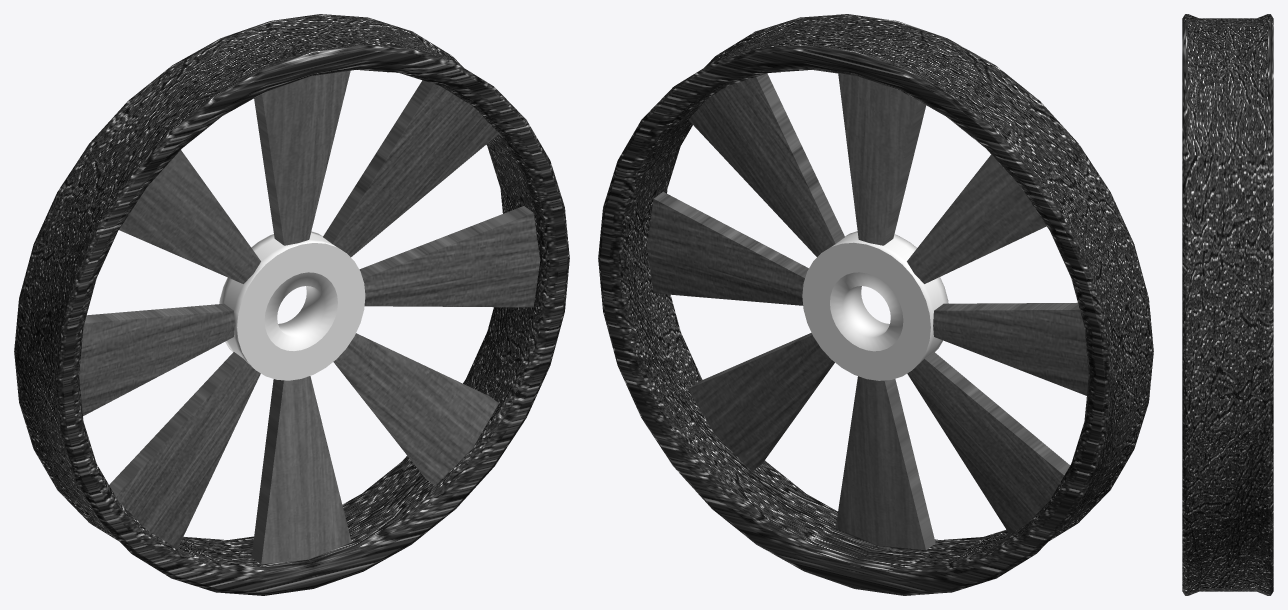
Rendered from cinta2.obj.
3 renders of one model, left to right at view 1: azimuth 30°, elevation 25°; view 2: azimuth 150°, elevation 25°; view 3: azimuth 270°, elevation 25°, orthographic.
Visible parts, largest first — view 1: Rim3:g0 pasted__group2 group3; view 2: Rim3:g0 pasted__group2 group3; view 3: Rim3:g0 pasted__group2 group3.
Part boxes in pixels (x1,y1,x2,y2): Rim3:g0 pasted__group2 group3: (14, 14, 569, 595); Rim3:g0 pasted__group2 group3: (598, 14, 1153, 595); Rim3:g0 pasted__group2 group3: (1182, 14, 1273, 595).
Bounding box in the file's own units: 0.8333 × 0.8333 × 0.1304.
Materials: 4 (4 with a texture image).
